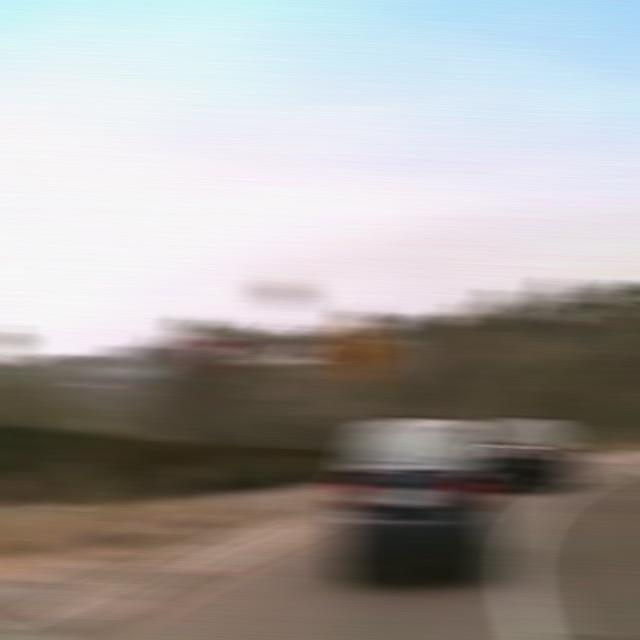yield: (179, 333, 236, 383)
